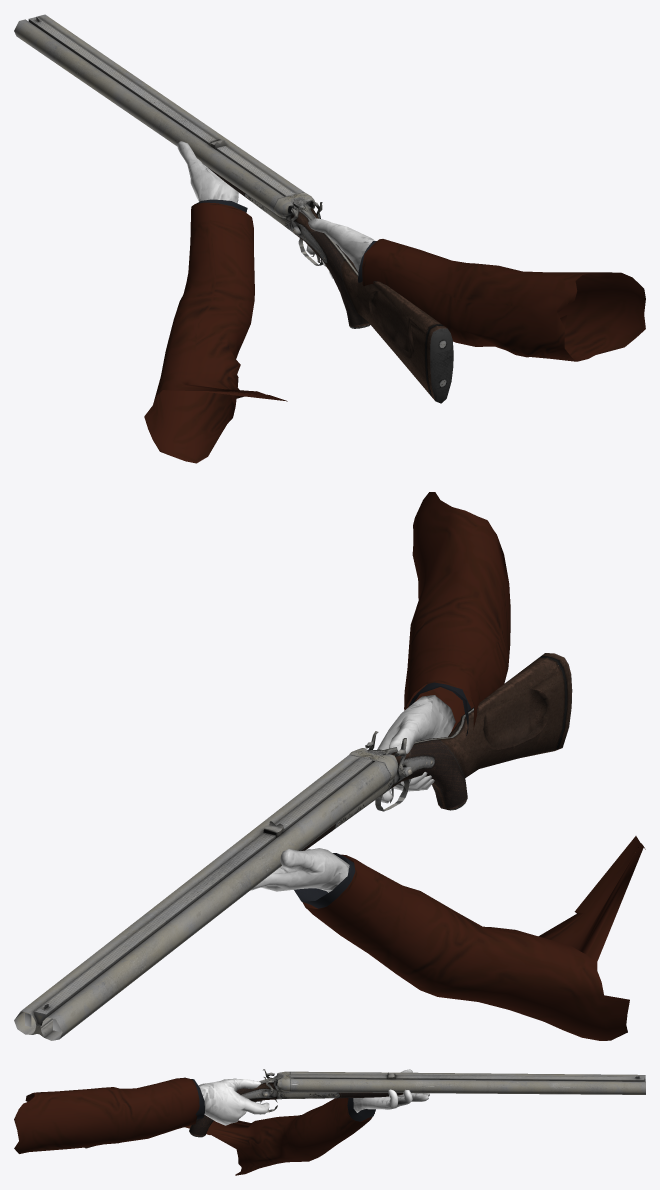
File: frame_1.obj
The picture shows the model from 3 angles, top to bottom: view 1: azimuth 30°, elevation 25°; view 2: azimuth 150°, elevation 25°; view 3: azimuth 270°, elevation 25°; orthographic projection. The views are drawn at different scales.
Visible parts, largest first — view 1: PlayerModelMerged.001_PlayerModelMerged, double_-_barreled_shotgun_L_double_-_barreled_shotgun_LP_к.002, double_-_barreled_shotgun_L_double_-_barreled_shotgun_LP_к.001; view 2: PlayerModelMerged.001_PlayerModelMerged, double_-_barreled_shotgun_L_double_-_barreled_shotgun_LP_к.002, double_-_barreled_shotgun_L_double_-_barreled_shotgun_LP_к.001; view 3: PlayerModelMerged.001_PlayerModelMerged, double_-_barreled_shotgun_L_double_-_barreled_shotgun_LP_к.002, double_-_barreled_shotgun_L_double_-_barreled_shotgun_LP_к.001.
Part boxes in pixels (left/top/right/bottom): PlayerModelMerged.001_PlayerModelMerged: left=144, top=141, right=645, bottom=463; double_-_barreled_shotgun_L_double_-_barreled_shotgun_LP_к.002: left=14, top=14, right=303, bottom=213; double_-_barreled_shotgun_L_double_-_barreled_shotgun_LP_к.001: left=208, top=168, right=453, bottom=403; PlayerModelMerged.001_PlayerModelMerged: left=250, top=492, right=645, bottom=1040; double_-_barreled_shotgun_L_double_-_barreled_shotgun_LP_к.002: left=14, top=755, right=390, bottom=1040; double_-_barreled_shotgun_L_double_-_barreled_shotgun_LP_к.001: left=301, top=653, right=572, bottom=850; PlayerModelMerged.001_PlayerModelMerged: left=14, top=1069, right=429, bottom=1175; double_-_barreled_shotgun_L_double_-_barreled_shotgun_LP_к.002: left=291, top=1071, right=645, bottom=1094; double_-_barreled_shotgun_L_double_-_barreled_shotgun_LP_к.001: left=85, top=1069, right=403, bottom=1148.
Size of the model in its own units: 0.8474 by 0.5724 by 2.
